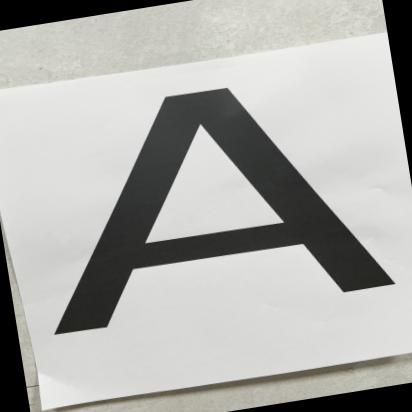seat: (24, 48, 412, 348)
